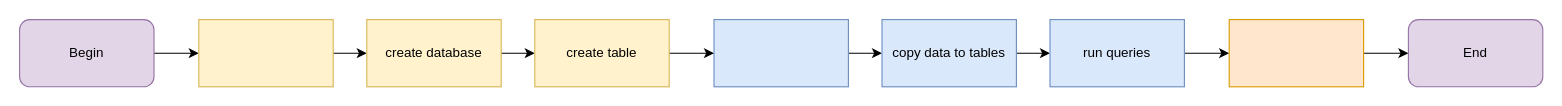
Image size: 1562x106. Some labels were removed from this diagram. The centre of each missing label's shape, as x and y in pixels:
"create airflow connection" goes at (x=265, y=52).
"download datasets" goes at (x=780, y=52).
"output results" goes at (x=1296, y=52).
